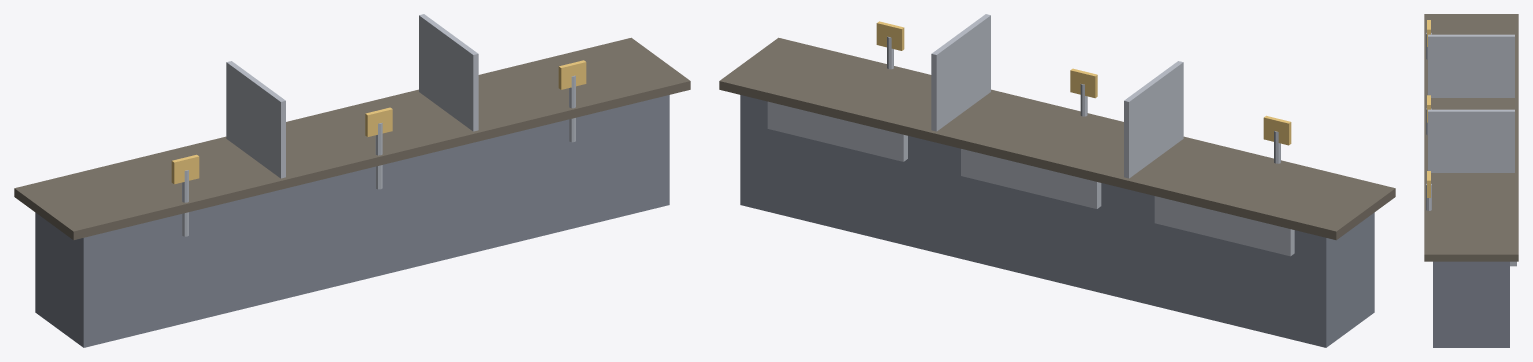
Rendered from welt_tresen.glb.
3 renders of one model, left to right at view 1: azimuth 30°, elevation 25°; view 2: azimuth 150°, elevation 25°; view 3: azimuth 270°, elevation 25°, orthographic. The views are drawn at different scales.
Parts seen in each view (by area): view 1: tresen_korpus, tresen_platte, trennscheibe, trennscheibe.001, schalter_nummer_2, schalter_nummer_0, schalter_nummer_1; view 2: tresen_korpus, tresen_platte, trennscheibe, trennscheibe.001, schalter_nische_2, schalter_nische_0, schalter_nische_1, schalter_nummer_0, schalter_nummer_2, schalter_nummer_1; view 3: tresen_platte, tresen_korpus, trennscheibe, trennscheibe.001, schalter_nummer_2, schalter_pfosten_2.
Boxes of the visible parts, box(x1,y1,x2,y2) form: tresen_korpus: box(35, 95, 669, 347); tresen_platte: box(14, 37, 690, 240); trennscheibe: box(226, 61, 285, 178); trennscheibe.001: box(419, 14, 478, 131); schalter_nummer_2: box(558, 60, 586, 89); schalter_nummer_0: box(171, 154, 199, 184); schalter_nummer_1: box(365, 107, 392, 136); tresen_korpus: box(740, 95, 1374, 347); tresen_platte: box(719, 37, 1395, 240); trennscheibe: box(1124, 61, 1183, 178); trennscheibe.001: box(931, 14, 990, 131); schalter_nische_2: box(767, 101, 907, 161); schalter_nische_0: box(1154, 196, 1294, 256); schalter_nische_1: box(961, 149, 1101, 208); schalter_nummer_0: box(1263, 115, 1291, 145); schalter_nummer_2: box(876, 21, 904, 50); schalter_nummer_1: box(1070, 68, 1097, 98); tresen_platte: box(1424, 14, 1518, 261); tresen_korpus: box(1433, 261, 1509, 347); trennscheibe: box(1428, 34, 1514, 97); trennscheibe.001: box(1428, 109, 1514, 172); schalter_nummer_2: box(1427, 171, 1430, 197); schalter_pfosten_2: box(1426, 184, 1431, 210).
Size of the model in its own units: 5.9 by 1.84 by 0.98.
